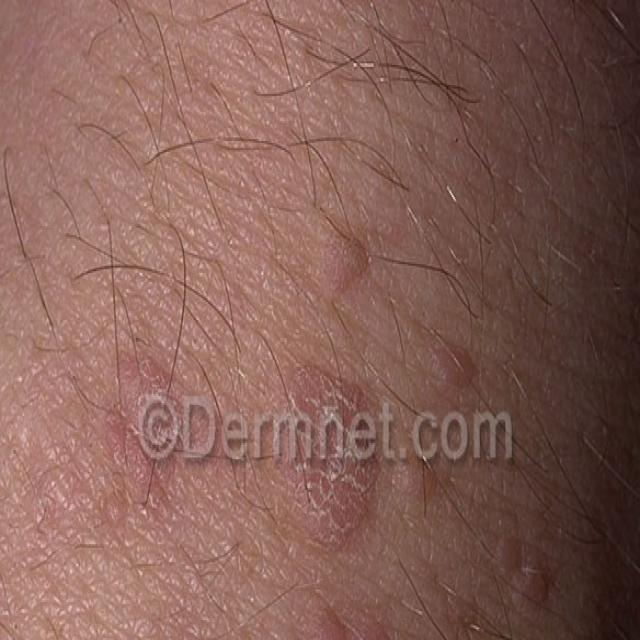Warts: (424, 407, 630, 610), (59, 355, 237, 574), (294, 348, 400, 565), (309, 142, 385, 269), (313, 582, 445, 640), (450, 271, 512, 357)
